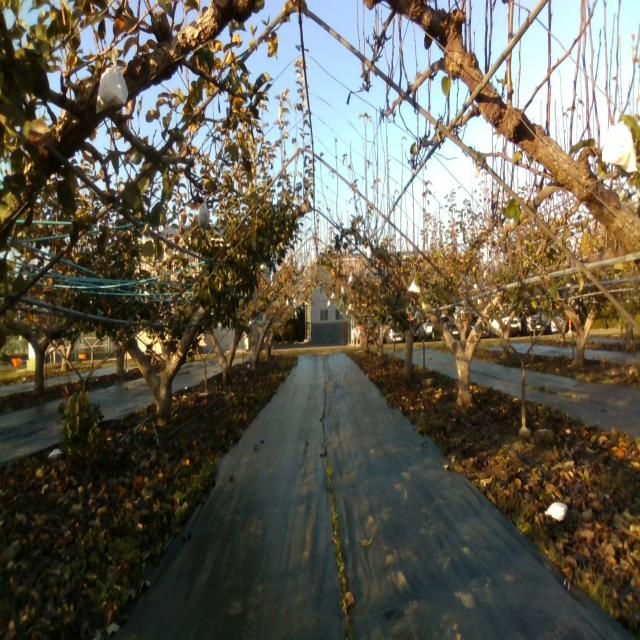pearbags: (95, 54, 129, 115), (601, 120, 638, 173), (197, 199, 210, 236)
